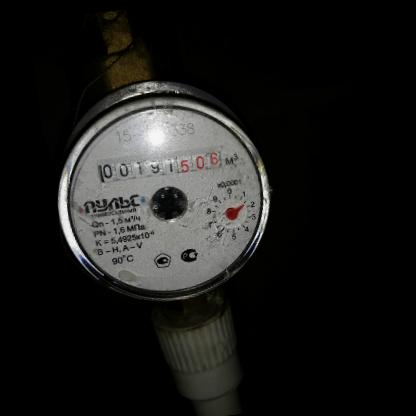digital_screen: (93, 147, 180, 187)
